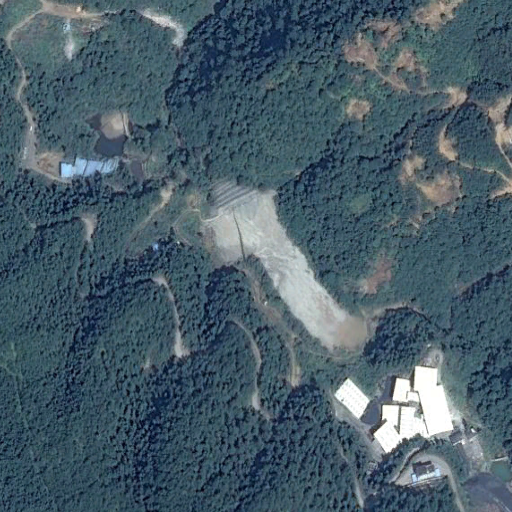tp: (201, 177, 368, 360)
